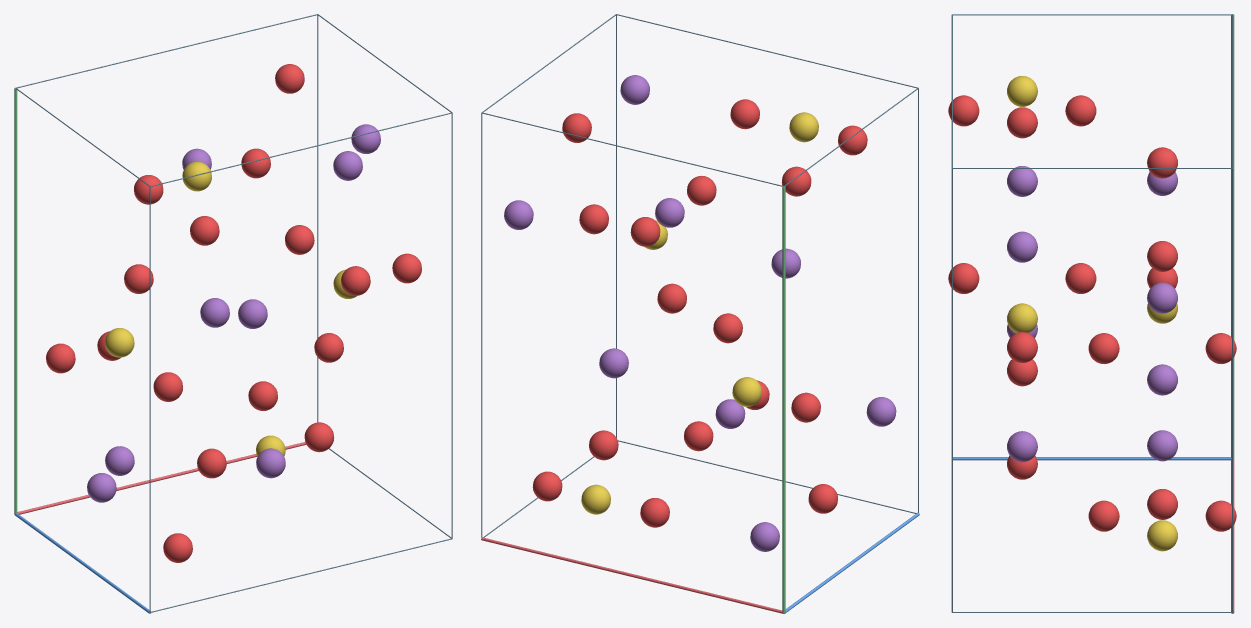
File: chat-arcanite.glb
The picture shows the model from 3 angles, left to right: view 1: azimuth 30°, elevation 25°; view 2: azimuth 150°, elevation 25°; view 3: azimuth 270°, elevation 25°; orthographic projection. The views are drawn at different scales.
Visible parts, largest first — view 1: Ô mạng và các trục a, b, c, O3 · O · 1 (×7), O2 · O · 1 (×4), O1 · O · 1 (×4), K1 · K · 1 (×4), K2 · K · 1 (×3), S · S · 1 (×2); view 2: Ô mạng và các trục a, b, c, O3 · O · 1 (×7), O1 · O · 1 (×4), O2 · O · 1 (×4), K2 · K · 1 (×4), K1 · K · 1 (×4), S · S · 1 (×3); view 3: O3 · O · 1 (×8), Ô mạng và các trục a, b, c, K1 · K · 1 (×4), O1 · O · 1 (×4), O2 · O · 1 (×4), S · S · 1 (×3), K2 · K · 1 (×3).
Part boxes in pixels (x1,y1,x2,y2): Ô mạng và các trục a, b, c: (14, 14, 452, 613); O3 · O · 1 (×7): (134, 175, 370, 452); O2 · O · 1 (×4): (124, 64, 343, 562); O1 · O · 1 (×4): (46, 148, 421, 478); K1 · K · 1 (×4): (87, 124, 380, 502); K2 · K · 1 (×3): (105, 151, 362, 478); S · S · 1 (×2): (105, 161, 211, 357); Ô mạng và các trục a, b, c: (481, 14, 919, 613); O3 · O · 1 (×7): (532, 125, 867, 501); O1 · O · 1 (×4): (579, 99, 820, 527); O2 · O · 1 (×4): (562, 113, 837, 513); K2 · K · 1 (×4): (504, 198, 896, 428); K1 · K · 1 (×4): (599, 75, 800, 551); S · S · 1 (×3): (581, 112, 818, 514); O3 · O · 1 (×8): (948, 95, 1236, 531); Ô mạng và các trục a, b, c: (951, 14, 1234, 613); K1 · K · 1 (×4): (1007, 166, 1177, 461); O1 · O · 1 (×4): (1007, 107, 1177, 519); O2 · O · 1 (×4): (1007, 147, 1177, 479); S · S · 1 (×3): (1007, 76, 1177, 551); K2 · K · 1 (×3): (1007, 172, 1177, 462).
Bounding box in the file's own units: 7.95 × 10.12 × 5.93.
